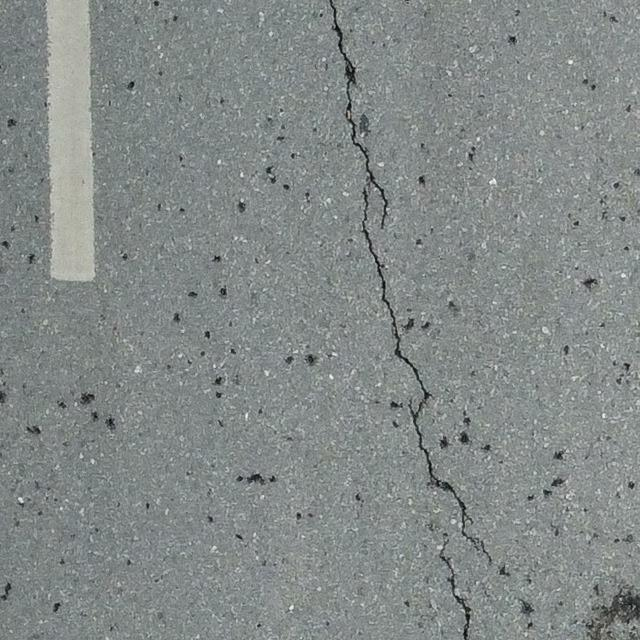LongitudinalCrack: (329, 1, 492, 640)
